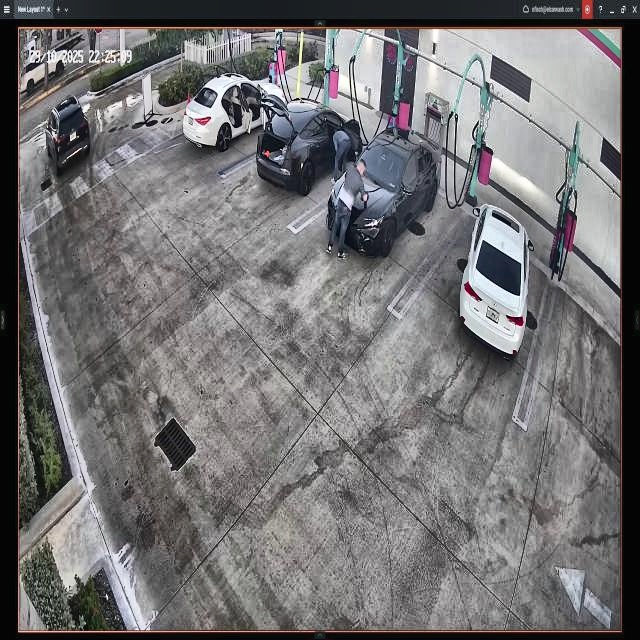Car: (328, 132, 441, 259), (466, 190, 527, 360), (260, 99, 359, 202), (180, 73, 285, 155)
